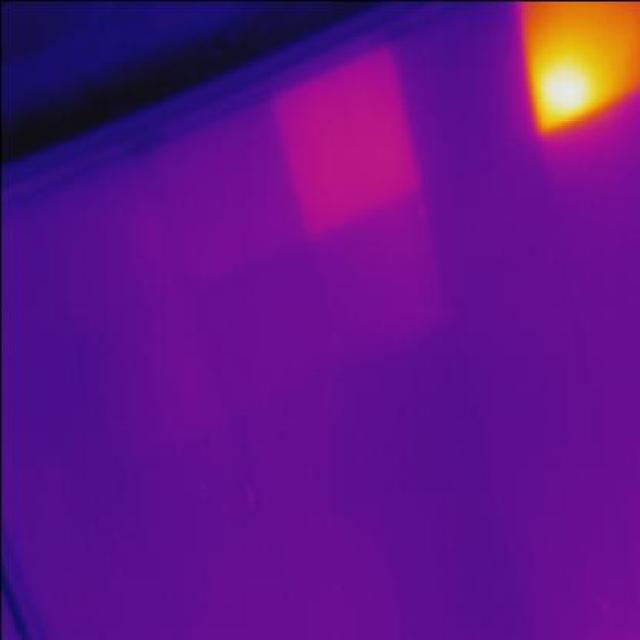hotspot: (512, 1, 638, 130)
